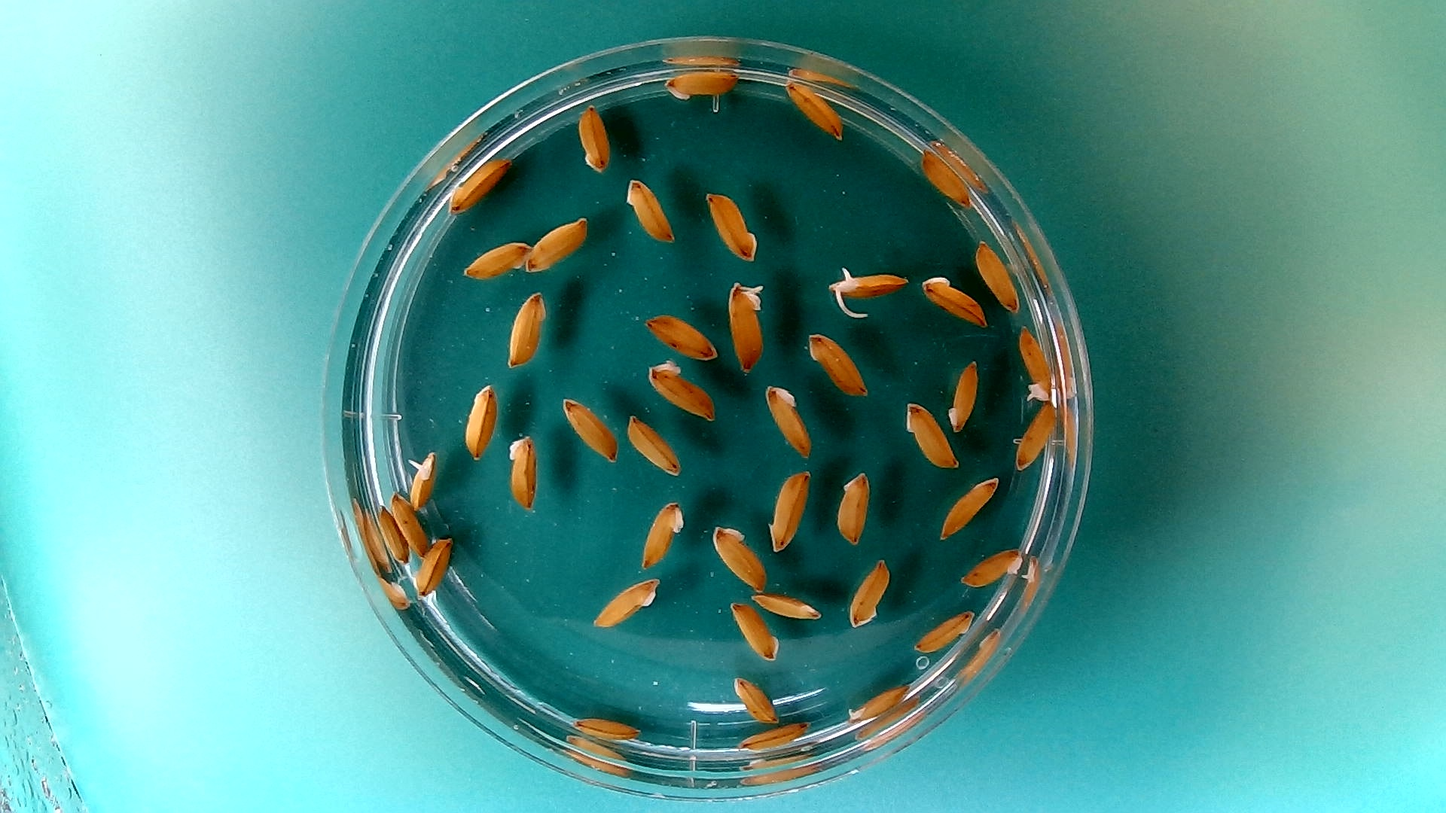no: (643, 357, 718, 423), (804, 328, 871, 397), (445, 150, 515, 214), (559, 393, 621, 464), (936, 472, 1000, 540), (641, 309, 721, 362), (761, 381, 814, 461), (703, 188, 760, 262), (589, 574, 663, 631), (902, 397, 959, 470), (766, 466, 813, 553), (711, 521, 767, 592), (782, 77, 846, 139), (524, 213, 590, 273), (918, 271, 988, 327), (917, 142, 975, 209), (624, 411, 682, 477), (637, 496, 688, 571), (623, 178, 677, 248), (972, 237, 1020, 314), (844, 555, 892, 631), (1010, 397, 1059, 471), (505, 288, 548, 370), (726, 598, 780, 663), (911, 605, 978, 654), (460, 379, 499, 463), (407, 532, 453, 603), (832, 466, 871, 547), (504, 431, 542, 514), (956, 544, 1025, 589), (663, 65, 743, 103), (461, 237, 530, 281), (388, 489, 430, 559), (944, 356, 981, 433), (847, 680, 911, 724), (575, 100, 612, 174), (728, 674, 780, 726), (736, 719, 811, 755), (749, 587, 823, 621), (570, 711, 643, 744), (376, 503, 408, 564)
yes: (725, 276, 769, 373), (823, 263, 911, 309), (1015, 322, 1057, 406), (405, 446, 438, 514)
